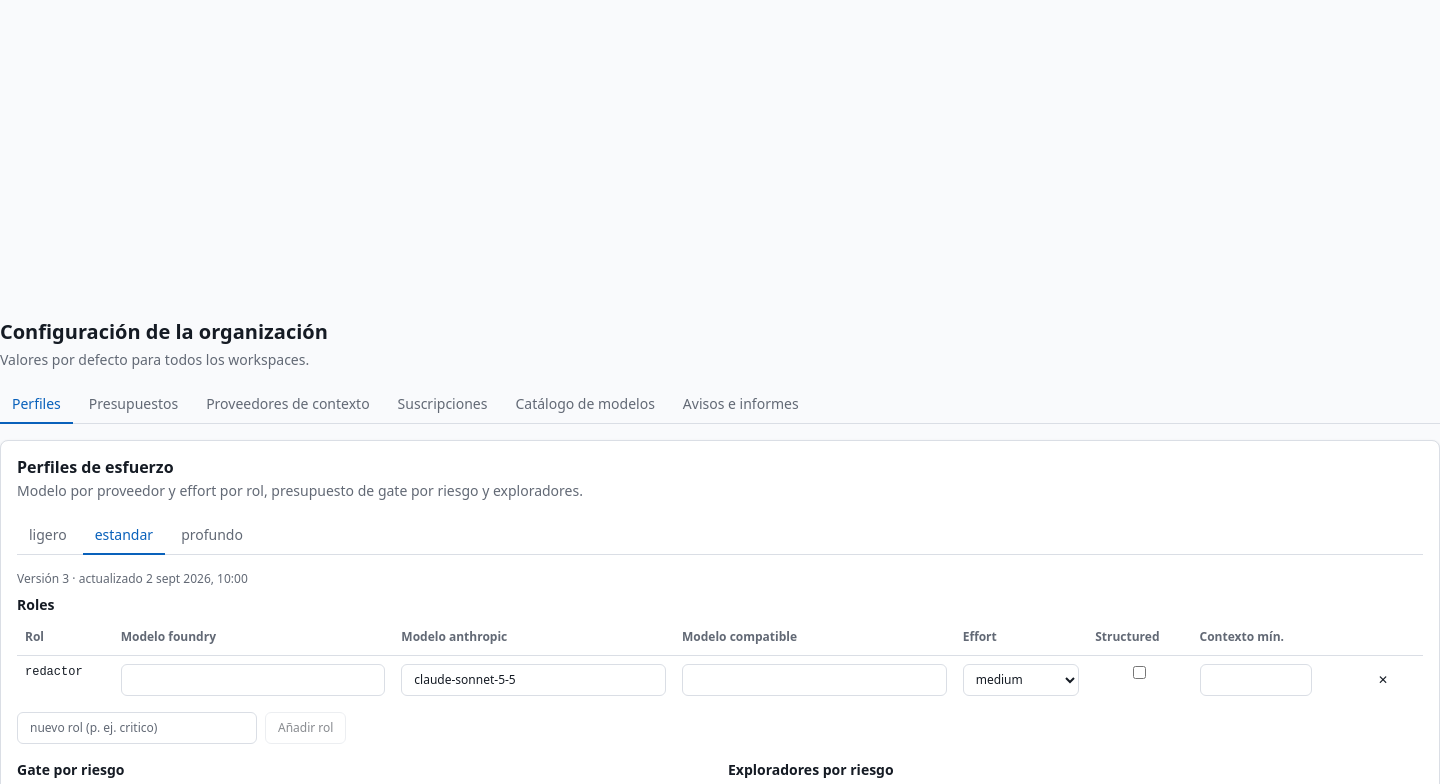
Test: Configuración de la organización › si una pestaña falla muestra el error ahí y las demás siguen sirviendo
(page scrolled)
Click the tab "Suscripciones": (442, 405) x1=386 y1=386 x2=499 y2=424
(page scrolled)
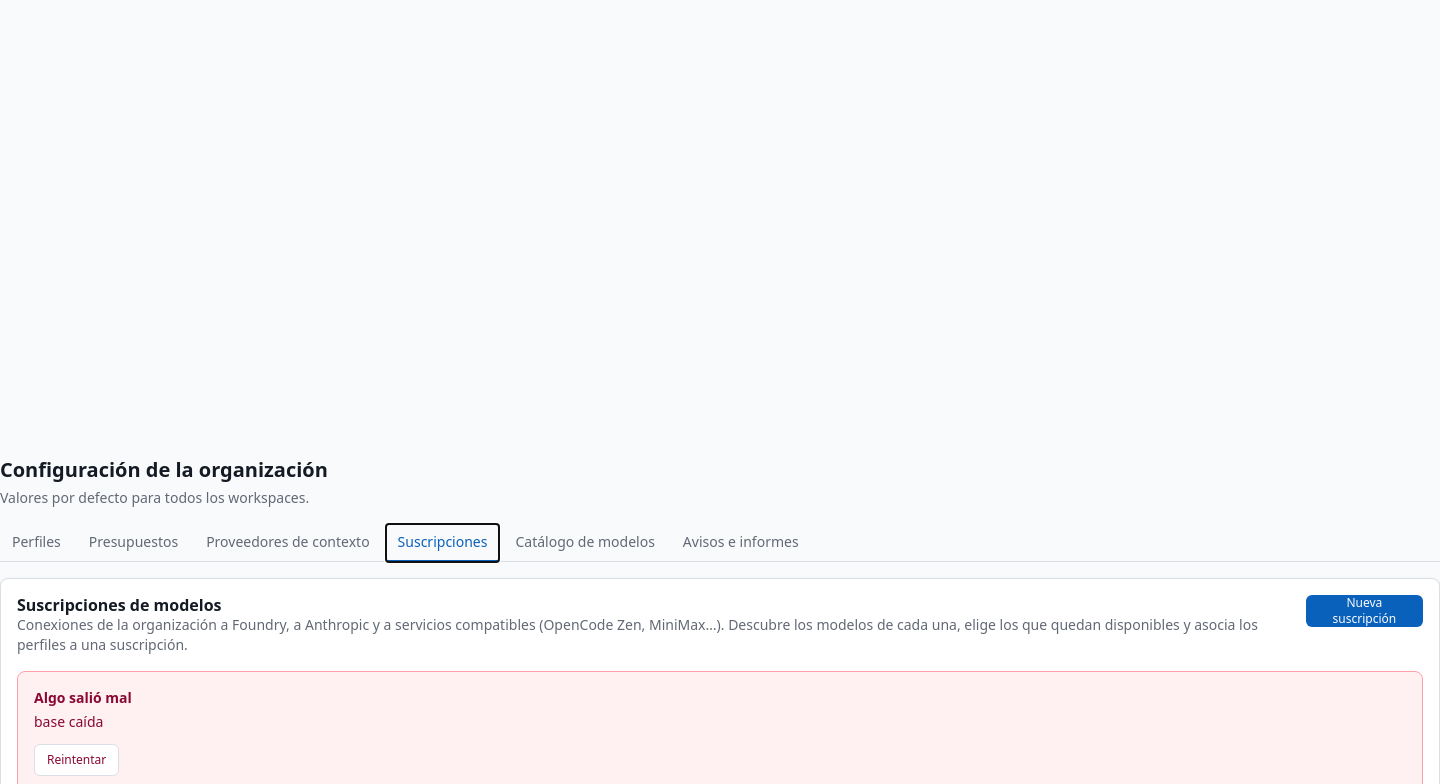
Now the text "base caída" is shown, box x1=34 y1=712 x2=103 y2=731
Click the tab "Perfiles": (36, 543) x1=0 y1=524 x2=73 y2=562
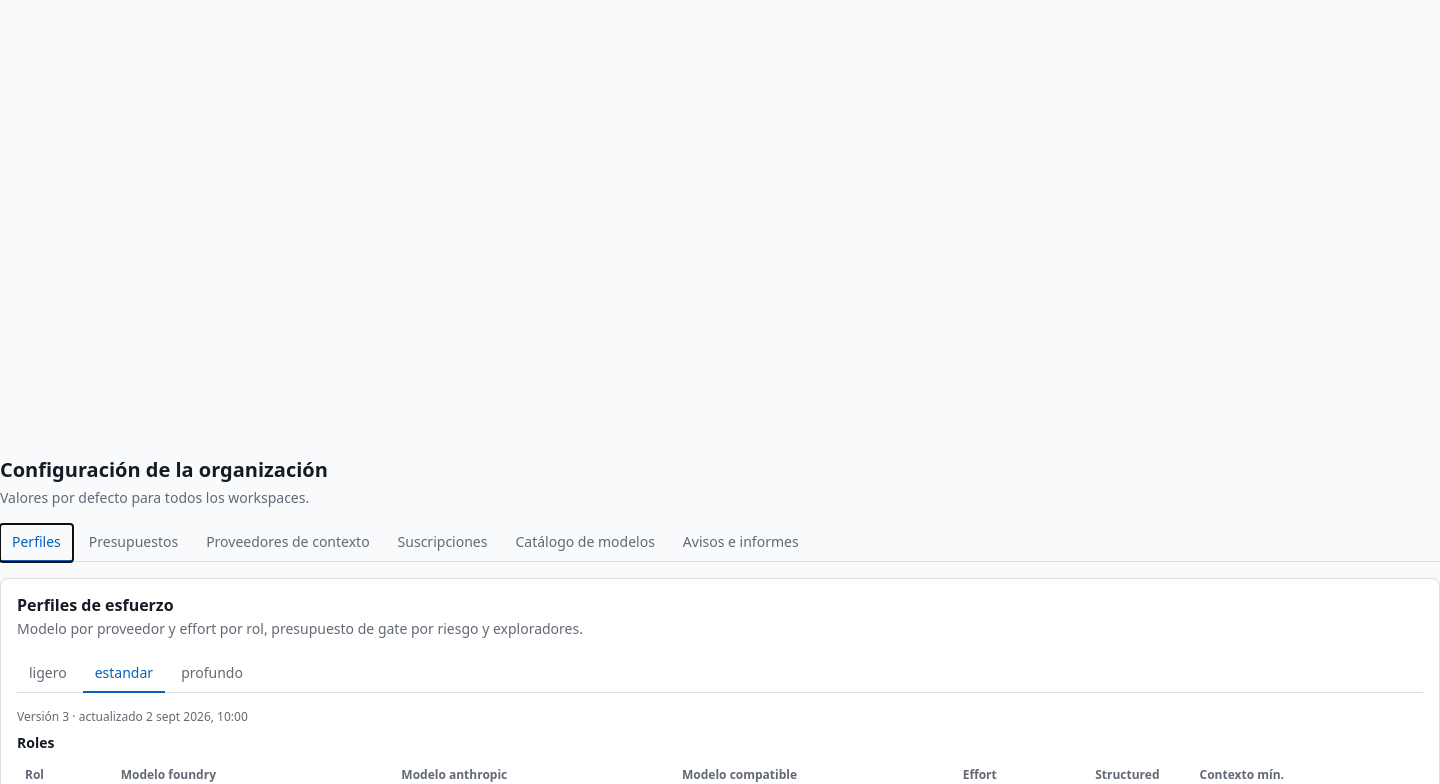
Now the text "base caída" is gone
